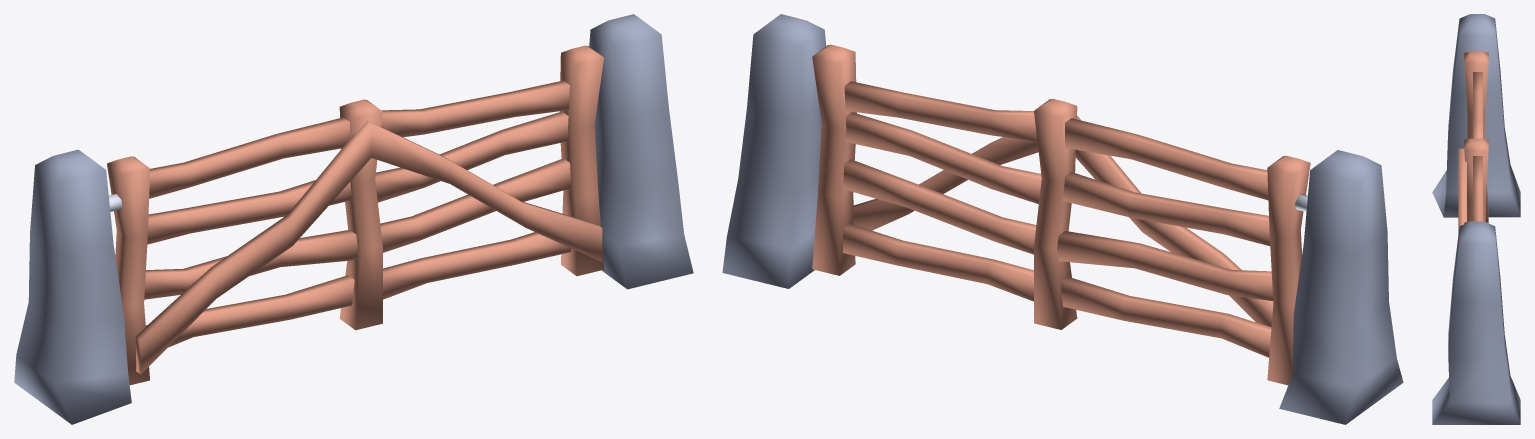
The model's file is Fence_Gate_1.fbx.
3 renders of one model, left to right at view 1: azimuth 30°, elevation 25°; view 2: azimuth 150°, elevation 25°; view 3: azimuth 270°, elevation 25°, orthographic. The views are drawn at different scales.
Visible parts, largest first — view 1: fence_gate; view 2: fence_gate; view 3: fence_gate.
Part boxes in pixels (x1,y1,x2,y2): fence_gate: [14, 14, 693, 424]; fence_gate: [722, 14, 1403, 424]; fence_gate: [1432, 14, 1520, 424].
Size of the model in its own units: 521 by 190 by 82.78.
